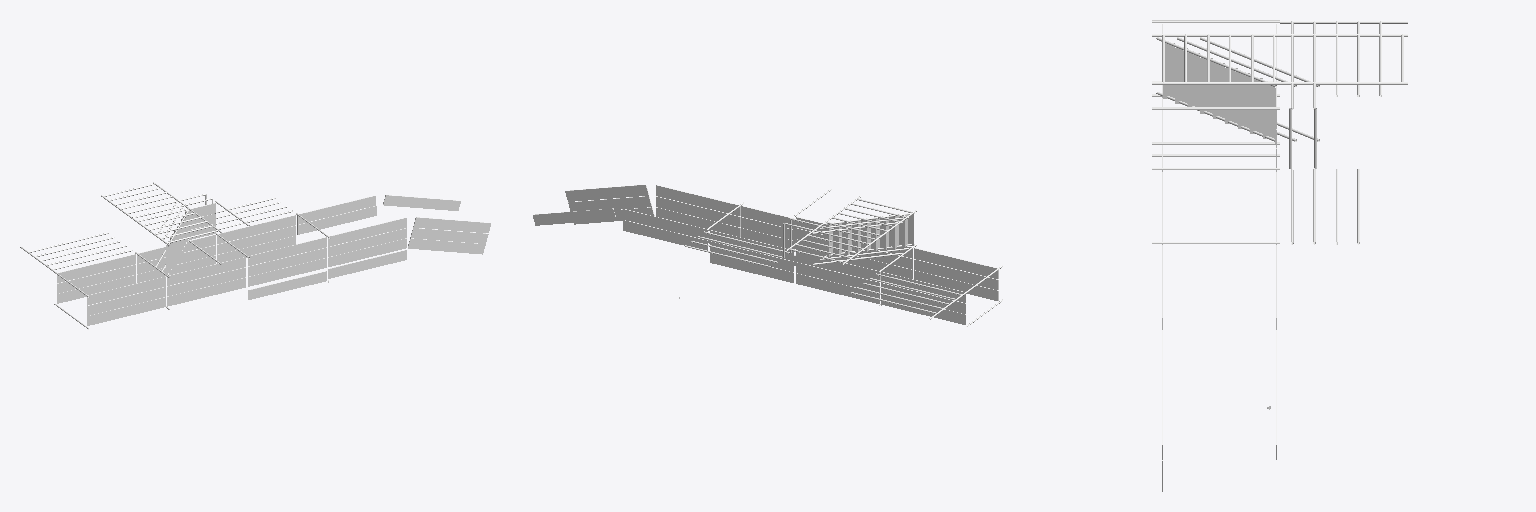
robot.urdf — plane:
<robot name="plane">
  <link name="base_link">
    <visual>
      <origin xyz="0 0 0" rpy="0 0 0" />
      <geometry>
        <mesh filename="package://hpp-rbprm-corba/meshes/plane.obj"/>
      </geometry>
      <material name="white">
        <color rgba="1 1 1 1"/>
      </material>
    </visual>
    <collision>
      <origin xyz="0 0 0" rpy="0 0 0" />
      <geometry>
        <mesh filename="package://hpp-rbprm-corba/meshes/plane.obj"/>
      </geometry>
    </collision>
  </link>
</robot>

--- Render facts (derived) ---
Views: 3 orthographic renders of the robot side by side, from view 1: azimuth 30°, elevation 25°; view 2: azimuth 150°, elevation 25°; view 3: azimuth 270°, elevation 25°.
Robot: plane — 1 links, 0 joints (none); root link base_link; default pose: every joint at zero.
Visible links, largest first — view 1: base_link; view 2: base_link; view 3: base_link.
Boxes of the visible links, bbox=[...] form: base_link: bbox=[20, 182, 490, 329]; base_link: bbox=[533, 185, 1002, 326]; base_link: bbox=[1152, 20, 1407, 491].
Size in the robot's own frame: 15.46 by 4.49 by 3.9 metres.
1 mesh visuals loaded from 1 distinct referenced files (1 OBJ).